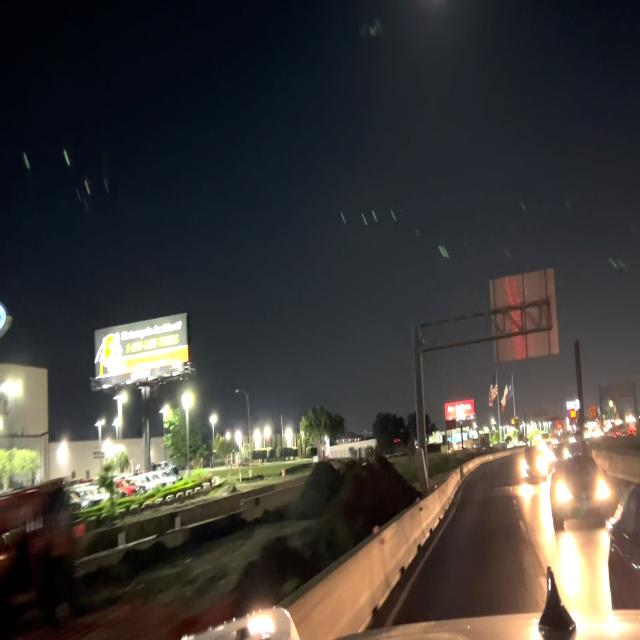back-of-sign: (486, 262, 562, 369)
